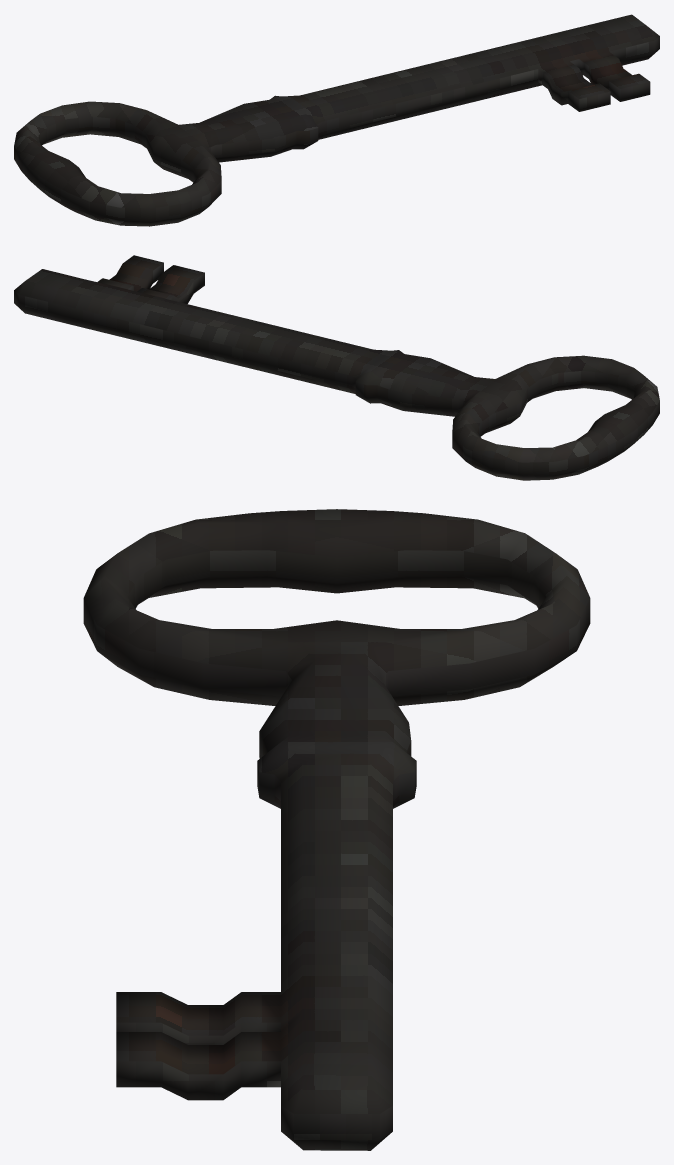
Rendered from key_1.glb.
3 renders of one model, top to bottom at view 1: azimuth 30°, elevation 25°; view 2: azimuth 150°, elevation 25°; view 3: azimuth 270°, elevation 25°, orthographic. The views are drawn at different scales.
Parts seen in each view (by area): view 1: key_1; view 2: key_1; view 3: key_1.
Boxes of the visible parts, x1,y1,x2,y2 form: key_1: [14, 14, 659, 226]; key_1: [14, 255, 659, 480]; key_1: [83, 509, 590, 1150].
Size of the model in its own units: 0.1428 by 0.00726 by 0.0514.
Materials: 1 (1 with a texture image).
